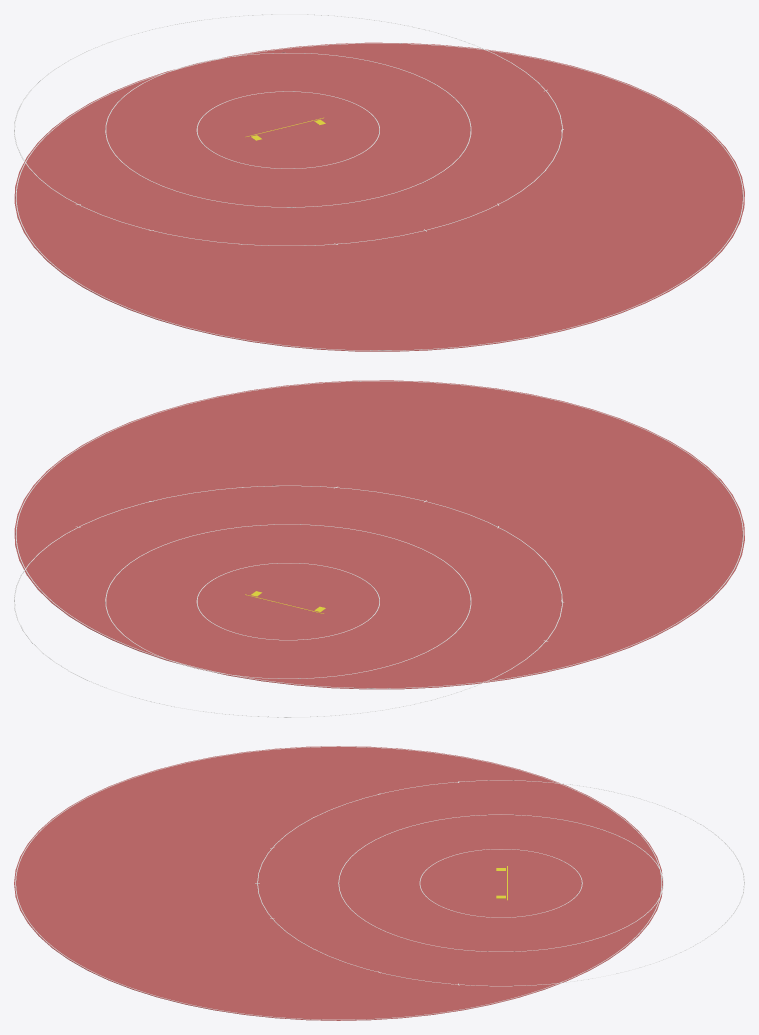
Rendered from High-jump sector markings.glb.
3 renders of one model, top to bottom at view 1: azimuth 30°, elevation 25°; view 2: azimuth 150°, elevation 25°; view 3: azimuth 270°, elevation 25°, orthographic. The views are drawn at different scales.
Visible parts, largest first — view 1: HJ_Apron_Base, HJ_Arc_Perimeter, HJ_Arc_15m, HJ_Arc_10m; view 2: HJ_Apron_Base, HJ_Arc_Perimeter, HJ_Arc_15m, HJ_Arc_10m; view 3: HJ_Apron_Base, HJ_Arc_Perimeter, HJ_Arc_15m, HJ_Arc_10m.
Boxes of the visible parts, x1,y1,x2,y2 form: HJ_Apron_Base: [14, 42, 744, 351]; HJ_Arc_Perimeter: [15, 43, 743, 350]; HJ_Arc_15m: [14, 14, 562, 245]; HJ_Arc_10m: [105, 52, 471, 207]; HJ_Apron_Base: [14, 380, 744, 689]; HJ_Arc_Perimeter: [15, 381, 743, 688]; HJ_Arc_15m: [14, 485, 562, 717]; HJ_Arc_10m: [105, 524, 471, 678]; HJ_Apron_Base: [14, 746, 662, 1020]; HJ_Arc_Perimeter: [15, 746, 662, 1019]; HJ_Arc_15m: [257, 780, 744, 986]; HJ_Arc_10m: [338, 814, 663, 951].
Size of the model in its own units: 40 by 0.024 by 45.02.
